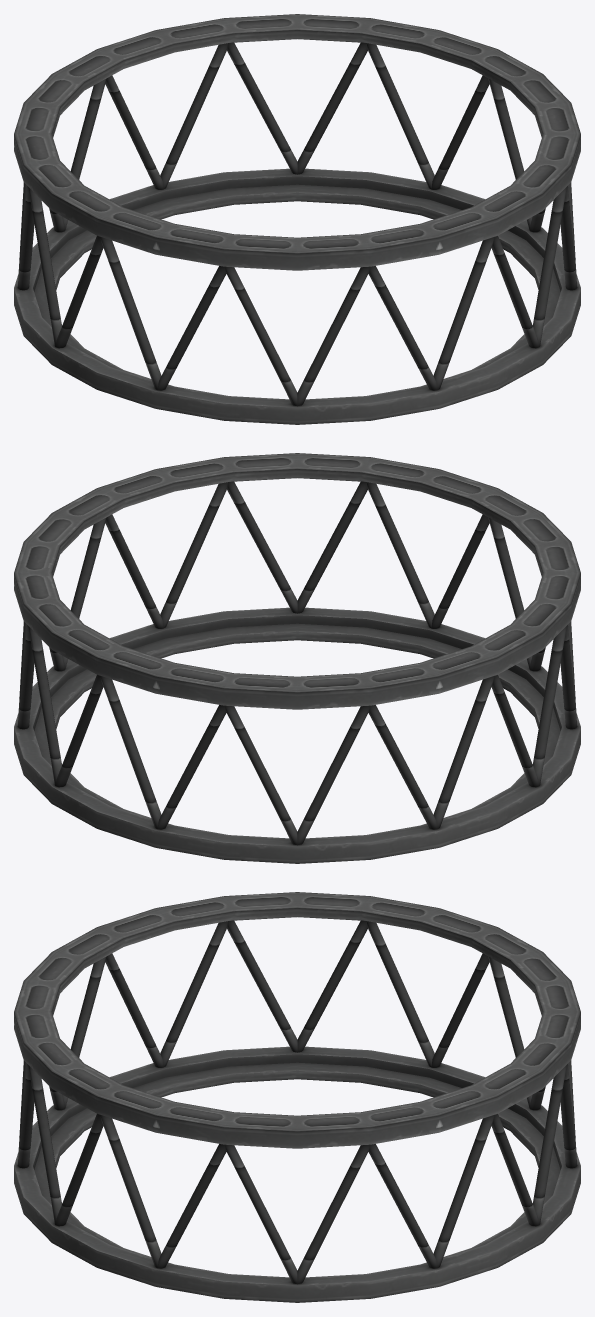
Rendered from castor_truss_decoupler_s1p5_1.obj.
3 views of the same model, one above another, from view 1: azimuth 30°, elevation 25°; view 2: azimuth 150°, elevation 25°; view 3: azimuth 270°, elevation 25° (orthographic).
Parts seen in each view (by area): view 1: castor_truss_decoupler_s1p5_1; view 2: castor_truss_decoupler_s1p5_1; view 3: castor_truss_decoupler_s1p5_1.
Part boxes in pixels (<box>): castor_truss_decoupler_s1p5_1: <box>14,14,580,424</box>; castor_truss_decoupler_s1p5_1: <box>14,453,580,863</box>; castor_truss_decoupler_s1p5_1: <box>14,892,580,1302</box>.
Bounding box in the file's own units: 1.88 × 0.625 × 1.88.
